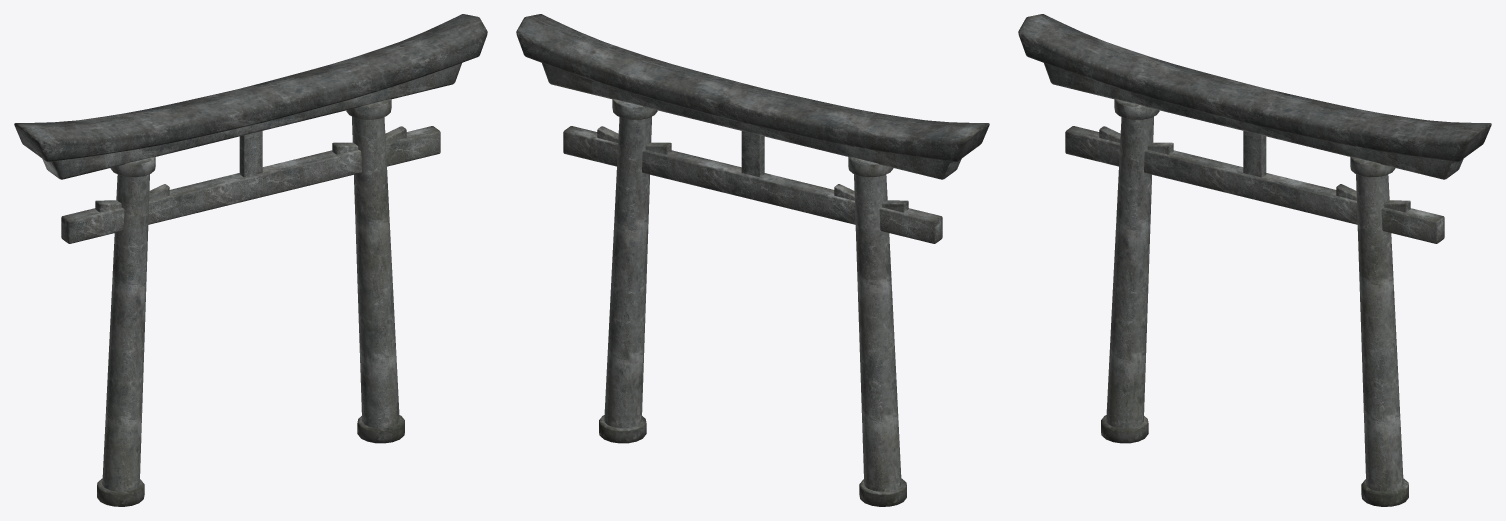
File: Tori.fbx
The picture shows the model from 3 angles, left to right: view 1: azimuth 30°, elevation 25°; view 2: azimuth 150°, elevation 25°; view 3: azimuth 330°, elevation 25°; orthographic projection.
Visible parts, largest first — view 1: Tori; view 2: Tori; view 3: Tori.
Part boxes in pixels (x1,y1,x2,y2): Tori: [14, 14, 487, 506]; Tori: [516, 14, 989, 506]; Tori: [1018, 14, 1491, 506].
Size of the model in its own units: 4.68 by 3.85 by 0.4646.
